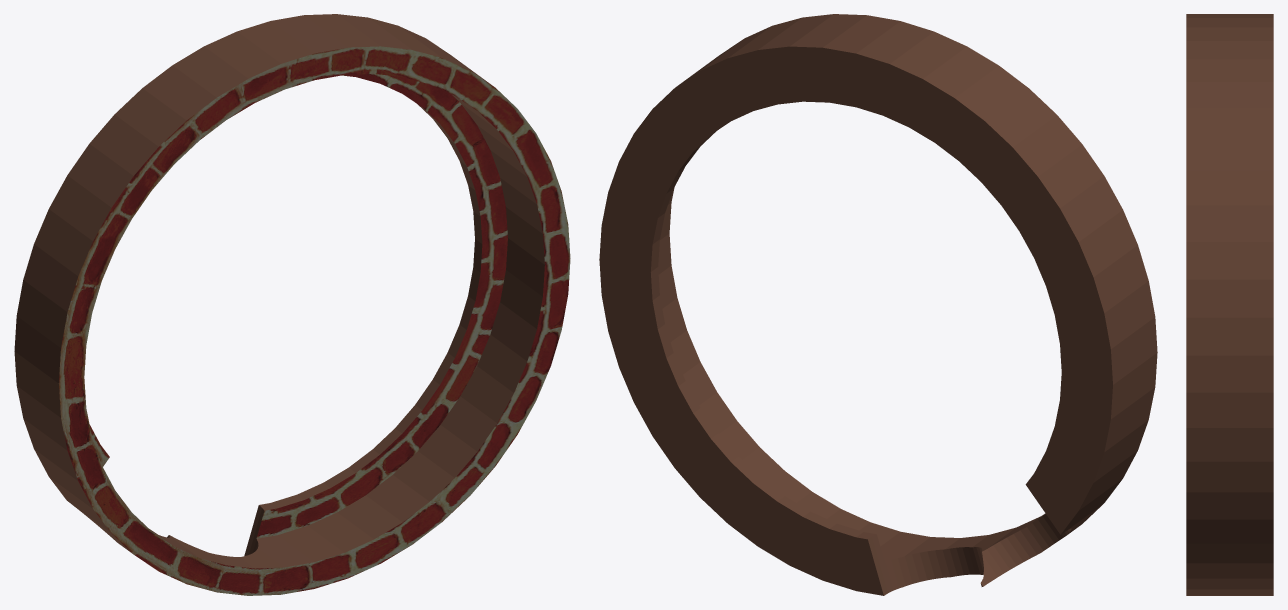
Rendered from pool_029.obj.
3 views of the same model, side by side, from view 1: azimuth 30°, elevation 25°; view 2: azimuth 150°, elevation 25°; view 3: azimuth 270°, elevation 25° (orthographic).
Size of the model in its own units: 20 by 20 by 3.
